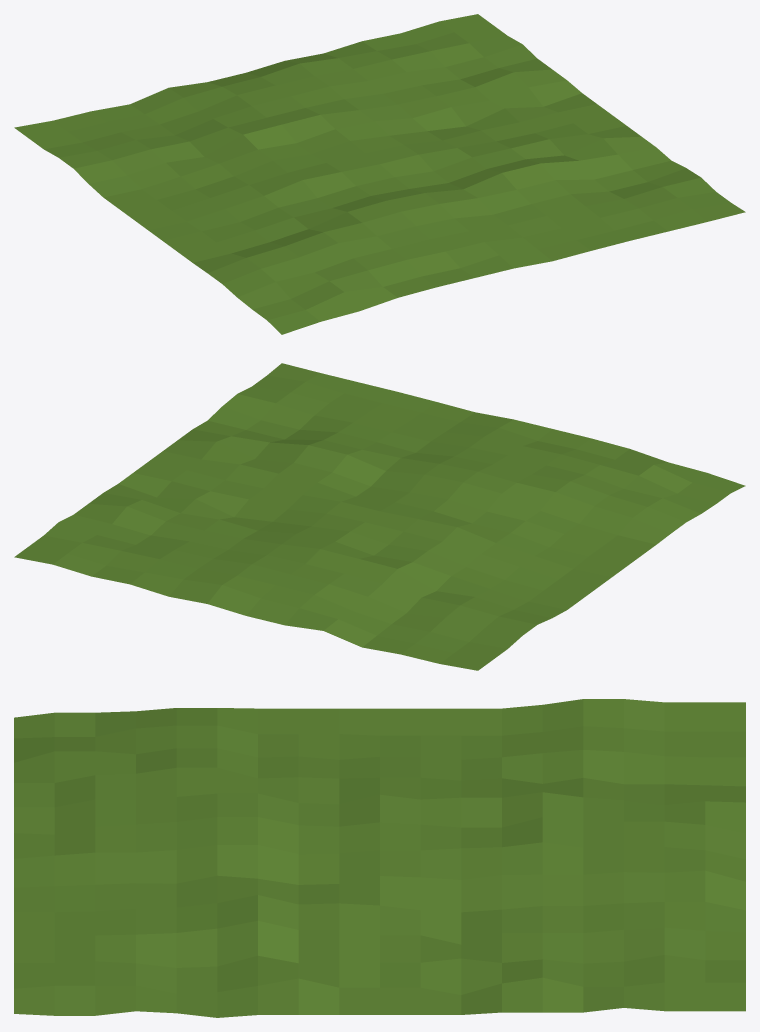
File: ground.fbx
3 views of the same model, one above another, from view 1: azimuth 30°, elevation 25°; view 2: azimuth 150°, elevation 25°; view 3: azimuth 270°, elevation 25° (orthographic). The views are drawn at different scales.
Visible parts, largest first — view 1: Plane; view 2: Plane; view 3: Plane.
Boxes of the visible parts, bbox=[...] form: Plane: bbox=[14, 14, 745, 334]; Plane: bbox=[14, 363, 745, 670]; Plane: bbox=[14, 699, 745, 1017].
Bounding box in the file's own units: 200 × 9.02 × 200.
